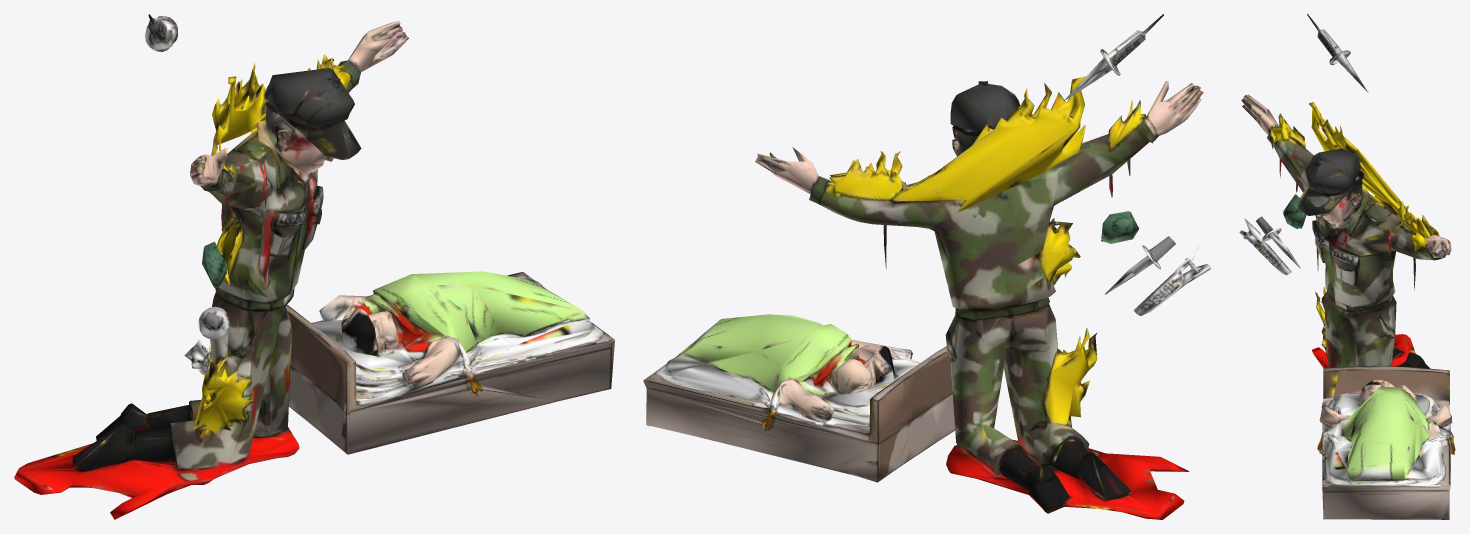
The picture shows the model from 3 angles, left to right: view 1: azimuth 30°, elevation 25°; view 2: azimuth 150°, elevation 25°; view 3: azimuth 270°, elevation 25°; orthographic projection. The views are drawn at different scales.
Visible parts, largest first — view 1: node_0; view 2: node_0; view 3: node_0.
Boxes of the visible parts, x1=… form: node_0: x1=14, y1=14, x2=614, y2=519; node_0: x1=643, y1=14, x2=1210, y2=519; node_0: x1=1239, y1=14, x2=1455, y2=519.
Size of the model in its own units: 0.8552 by 0.7498 by 0.4238.
Materials: 1 (1 with a texture image).
